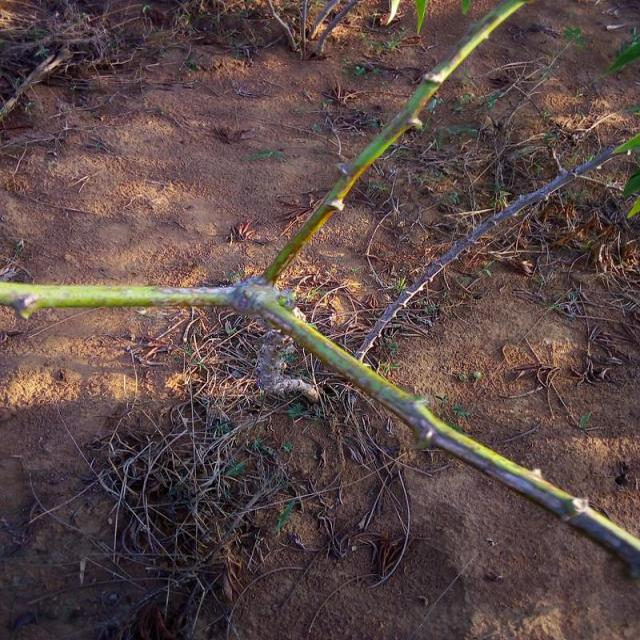cassava leaf: (0, 1, 638, 581)
